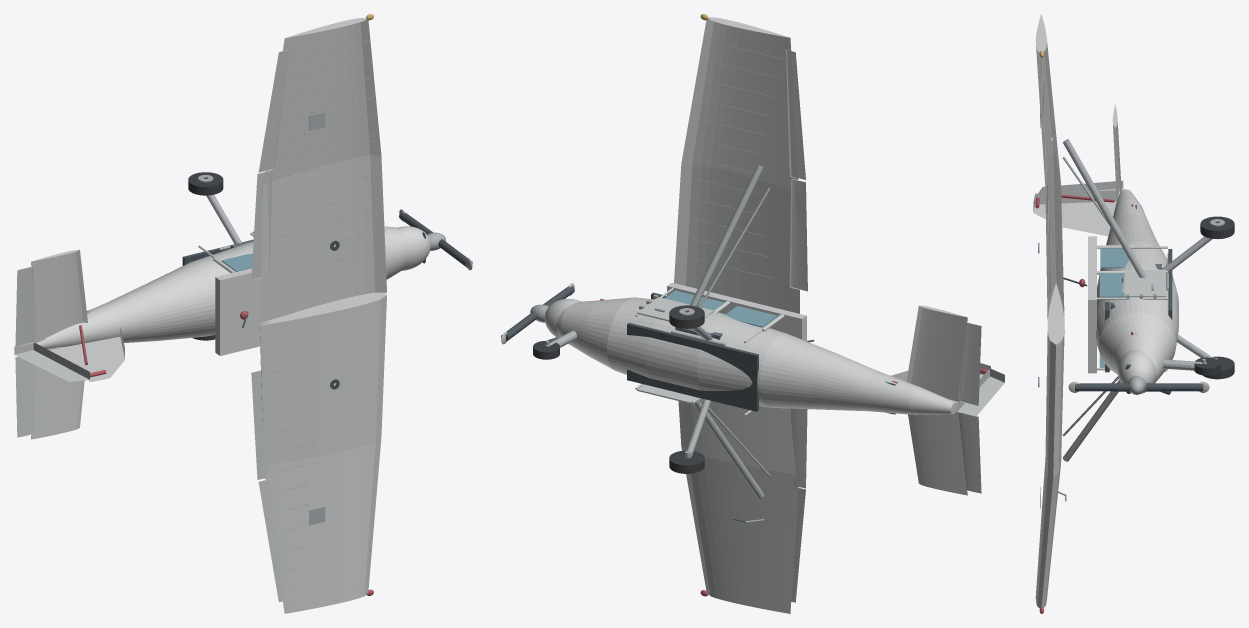
Rendered from Cessna_172_Classic_Analog_V2.glb.
3 renders of one model, left to right at view 1: azimuth 30°, elevation 25°; view 2: azimuth 150°, elevation 25°; view 3: azimuth 270°, elevation 25°, orthographic. The views are drawn at different scales.
Visible parts, largest first — view 1: Main high wing • left, Main high wing • right, Fuselage • sculpted aluminium shell, Horizontal stabilizer • right, Cabin roof • removable panel, Horizontal stabilizer • left, Vertical stabilizer, Aileron • right, Aileron • left, Elevator • right, Rudder • hinged, Elevator • left (+4 smaller); view 2: Main high wing • right, Fuselage • sculpted aluminium shell, Main high wing • left, Horizontal stabilizer • right, Horizontal stabilizer • left, Cockpit floor, Flap • right, Cabin roof • removable panel, Elevator • right, Elevator • left, Wing strut • right, Aileron • right (+7 smaller); view 3: Fuselage • sculpted aluminium shell, Main high wing • right, Main high wing • left, Vertical stabilizer, Cabin roof • removable panel, Wing strut • right, Cabin door • right, Engine cowling, Wing strut • left, Main wheel right, Front side window right, Rear side window right (+8 smaller).
Boxes of the visible parts, x1,y1,x2,y2 form: Main high wing • left: (259,294,386,613); Main high wing • right: (259,18,386,323); Fuselage • sculpted aluminium shell: (36,226,406,348); Horizontal stabilizer • right: (31,249,87,343); Cabin roof • removable panel: (215,268,271,355); Horizontal stabilizer • left: (31,346,84,439); Vertical stabilizer: (39,327,124,381); Aileron • right: (258,50,288,172); Aileron • left: (258,478,287,602); Elevator • right: (15,266,35,346); Rudder • hinged: (14,342,89,381); Elevator • left: (15,357,34,437); Main high wing • right: (674,17,799,313); Fuselage • sculpted aluminium shell: (556,297,957,414); Main high wing • left: (678,398,798,613); Horizontal stabilizer • right: (906,305,967,402); Horizontal stabilizer • left: (908,410,967,495); Cockpit floor: (627,322,758,411); Flap • right: (789,178,807,291); Cabin roof • removable panel: (667,282,806,341); Elevator • right: (958,322,981,405); Elevator • left: (958,412,981,493); Wing strut • right: (690,165,763,306); Aileron • right: (786,50,805,179); Fuselage • sculpted aluminium shell: (1096,189,1178,383); Main high wing • right: (1035,14,1064,342); Main high wing • left: (1035,328,1064,608); Vertical stabilizer: (1033,190,1120,236); Cabin roof • removable panel: (1088,236,1096,373); Wing strut • right: (1063,139,1146,278); Cabin door • right: (1125,269,1166,297); Engine cowling: (1118,350,1155,393); Wing strut • left: (1063,380,1120,461); Main wheel right: (1200,216,1234,239); Front side window right: (1099,273,1125,297); Rear side window right: (1100,248,1129,268).
Bounding box in the file's own units: 8.62 × 10.91 × 3.54.
